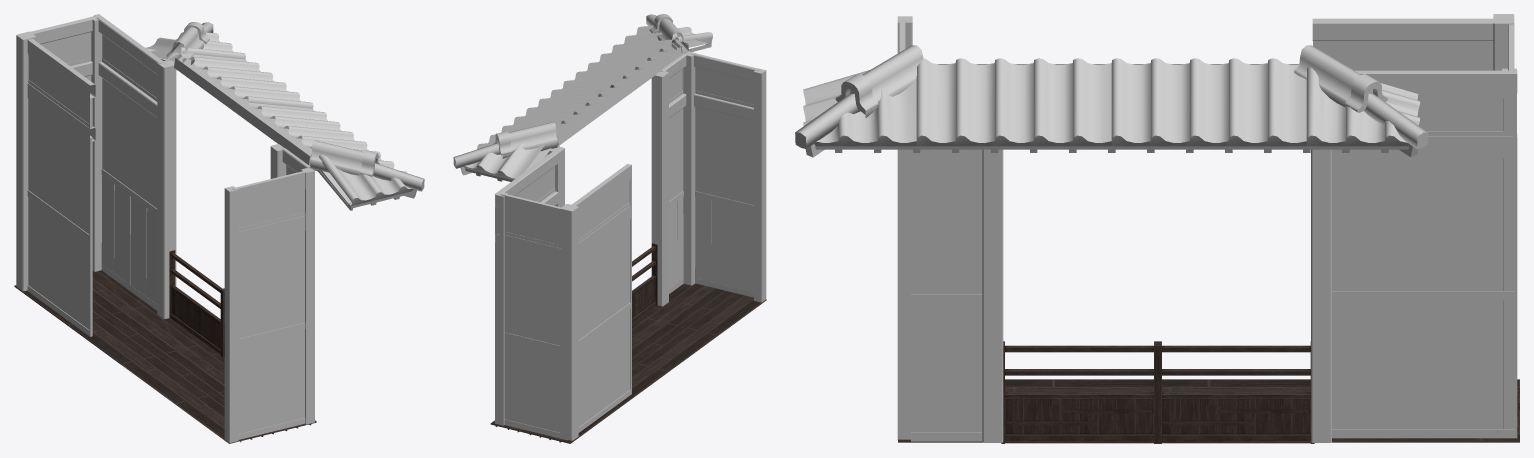
Rendered from 6F-3_Building.fbx.
3 views of the same model, side by side, from view 1: azimuth 30°, elevation 25°; view 2: azimuth 150°, elevation 25°; view 3: azimuth 270°, elevation 25° (orthographic). The views are drawn at different scales.
Parts seen in each view (by area): view 1: _Combined Mesh [6F-3_Building]; view 2: _Combined Mesh [6F-3_Building]; view 3: _Combined Mesh [6F-3_Building].
Part boxes in pixels (x1,y1,x2,y2): _Combined Mesh [6F-3_Building]: (14, 14, 424, 443); _Combined Mesh [6F-3_Building]: (453, 14, 766, 443); _Combined Mesh [6F-3_Building]: (795, 14, 1519, 443).
Size of the model in its own units: 225 by 363 by 594.
